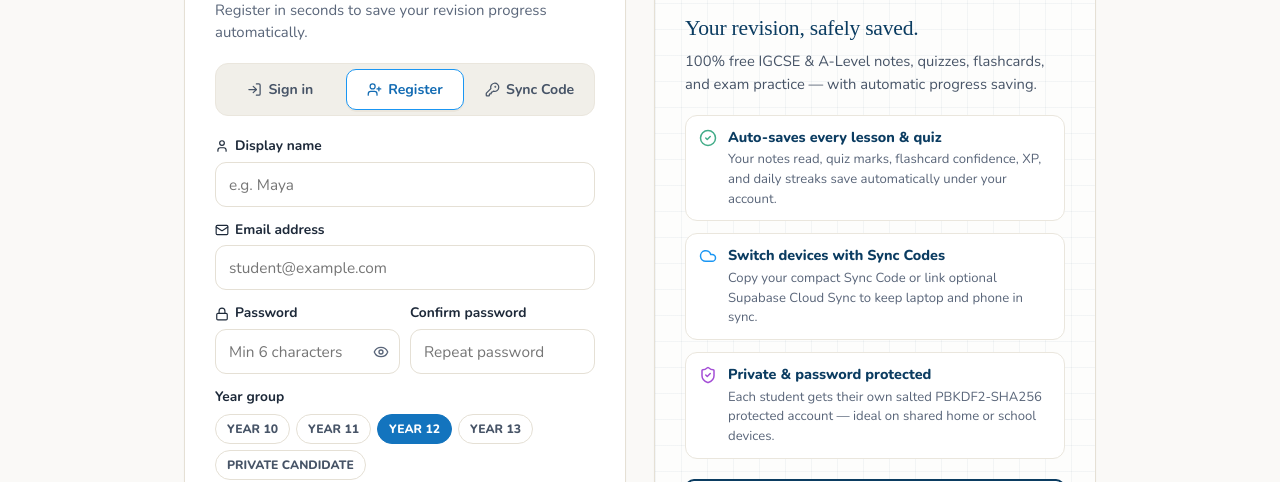
it: Sign In, Register & Progress Save System › completes the Register UI form on /register and navigates to Dashboard as the new student
Type "Liam" into the field with placeholder "e.g. Maya" at point(405, 184), box [215,162,595,207]
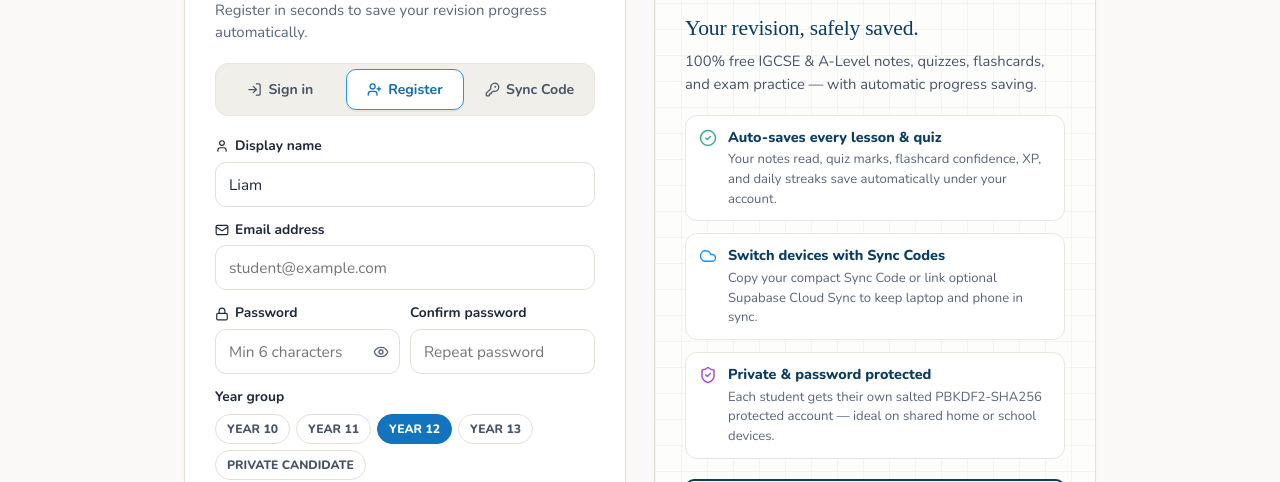
Type "liam@school.uk" into the field with placeholder "student@example.com" at point(405, 268), box [215,245,595,290]
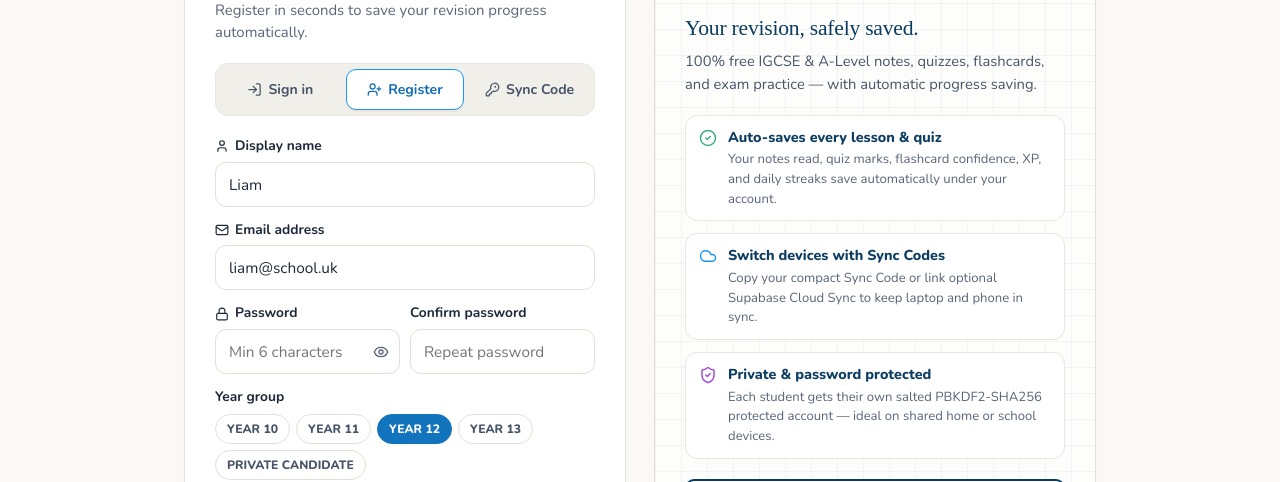
Type "study2026" into the password field with placeholder "Min 6 characters" at point(308, 352), box [215,329,400,374]
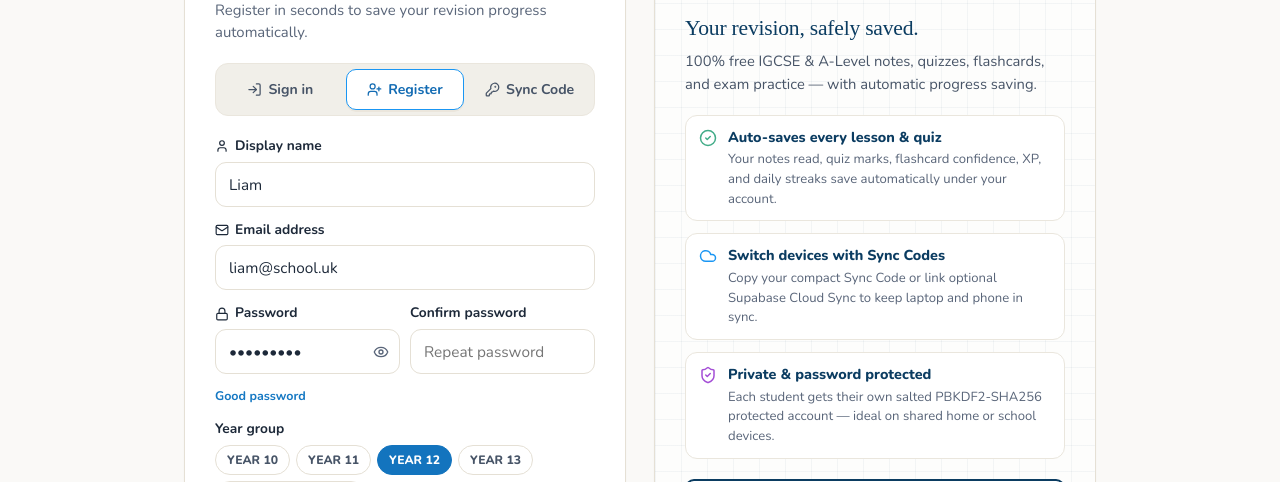
Type "study2026" into the password field with placeholder "Repeat password" at point(502, 352), box [410,329,595,374]
(page scrolled)
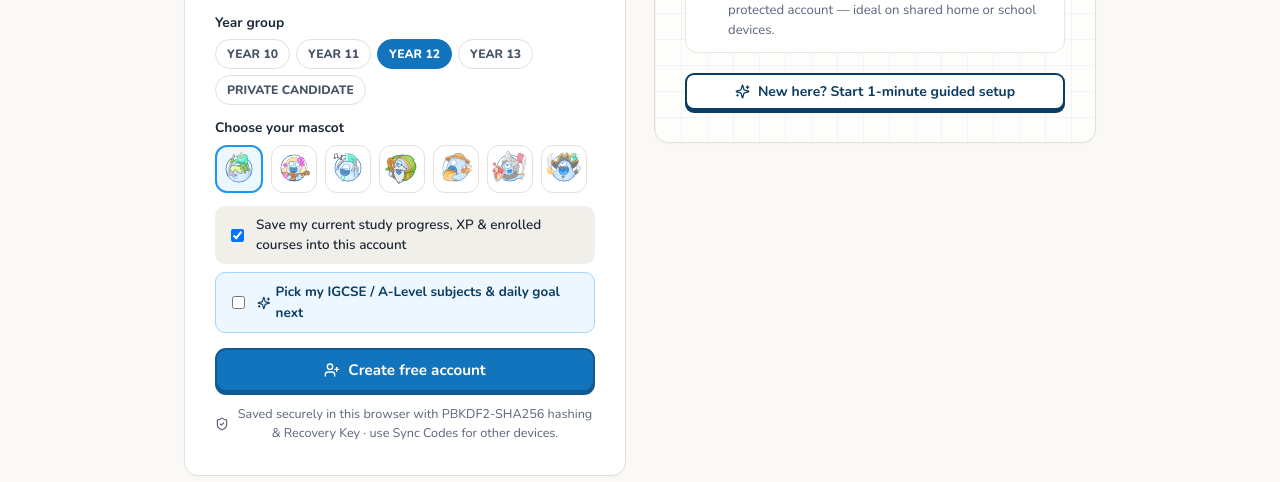
Click the button "Create free account" at point(405, 370), box [215,348,595,392]
(page scrolled)
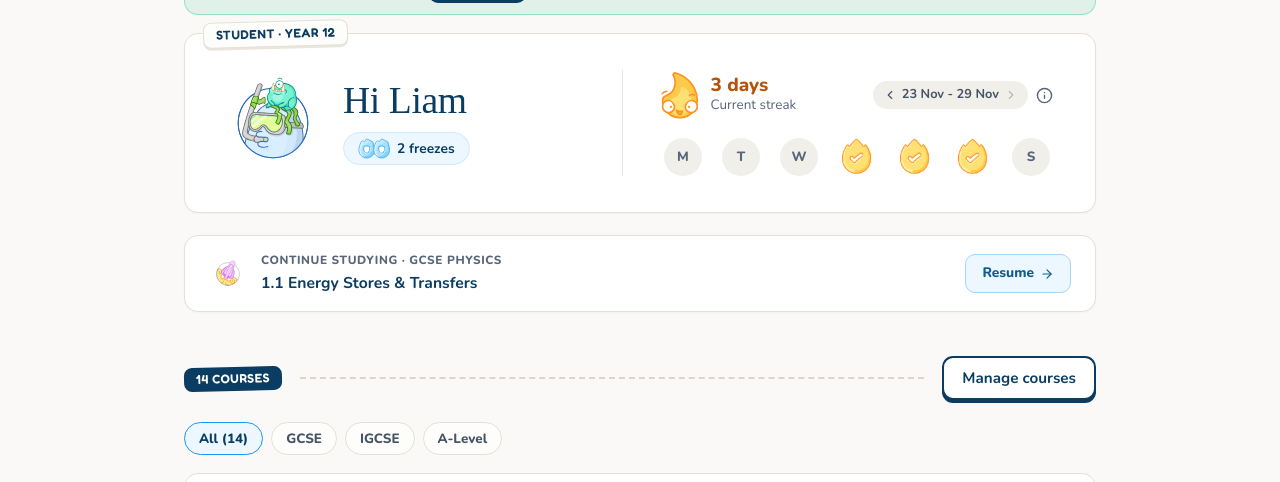
Now the heading "Hi Liam" is shown, box [343,80,470,122]
